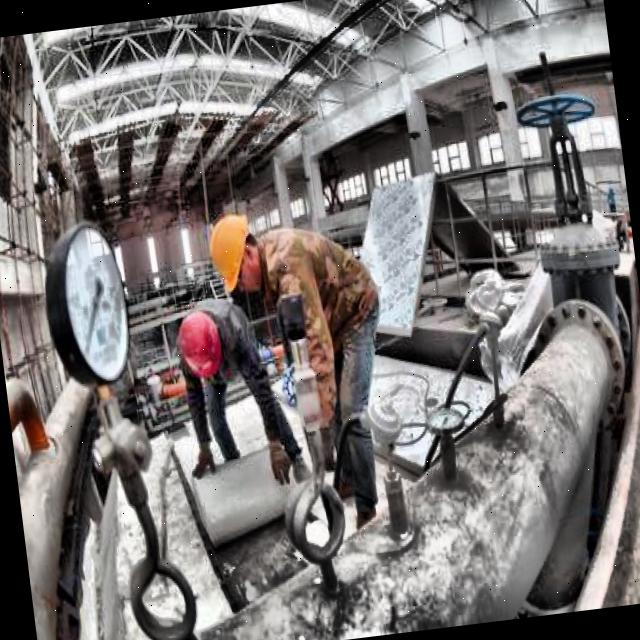helmet: (202, 202, 268, 304), (172, 302, 230, 384)
